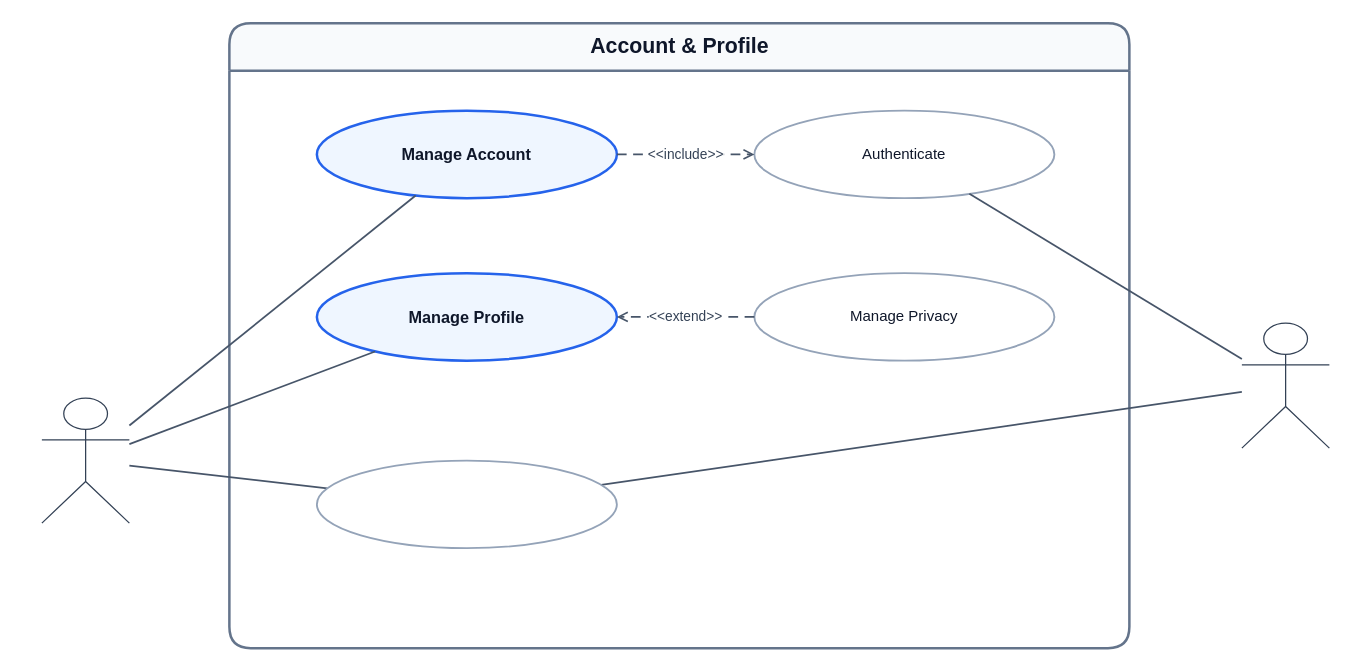
The diagram is 1364 pixels wide and 670 high, and some of its shapes have lost their labels. Here are the shapes that lost their labels. From the top down, the centre of each, then its label:
point 1285,385: Anonymous User
point 85,460: Authenticated User
point 466,503: Recover Account
